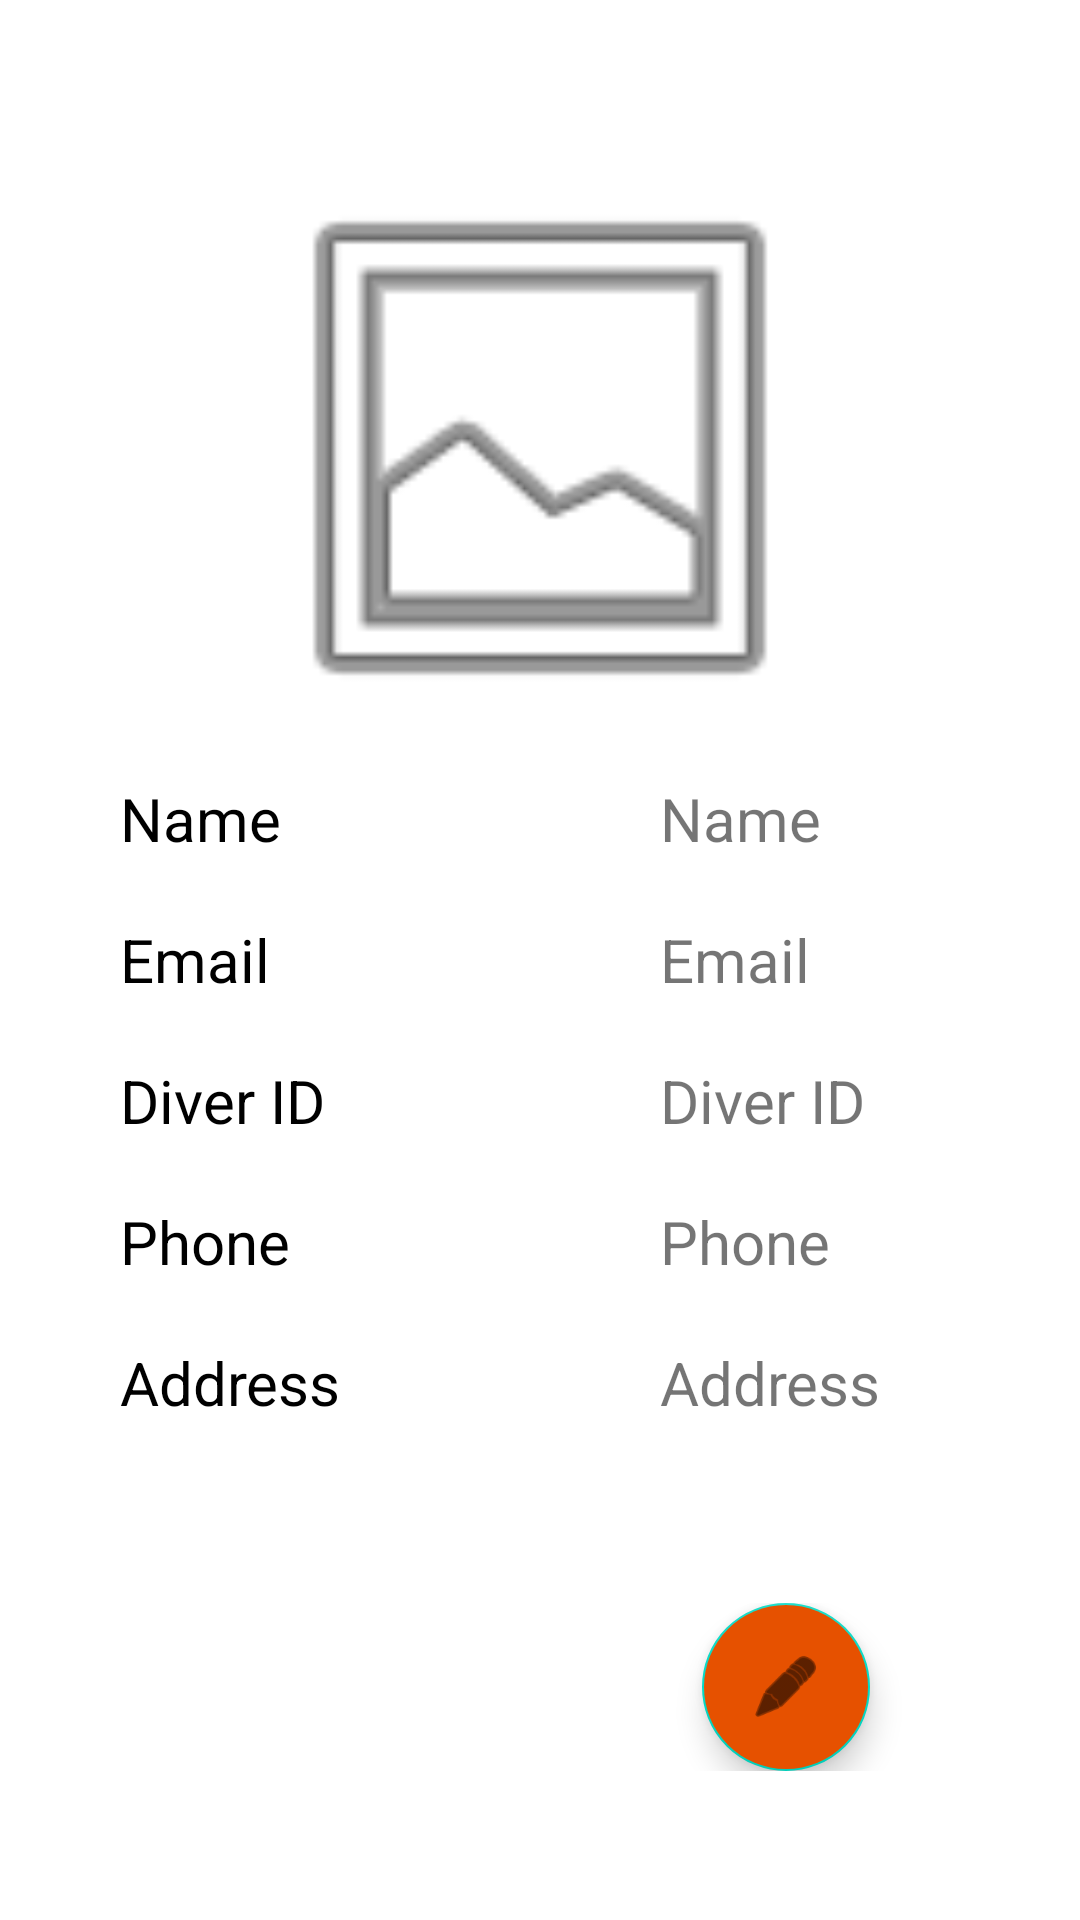

Named icons in this screenshot (1080 x 1920) and their bounding boxes, (x1, y1, x2, y2):
edit: (702, 1603, 870, 1771)
